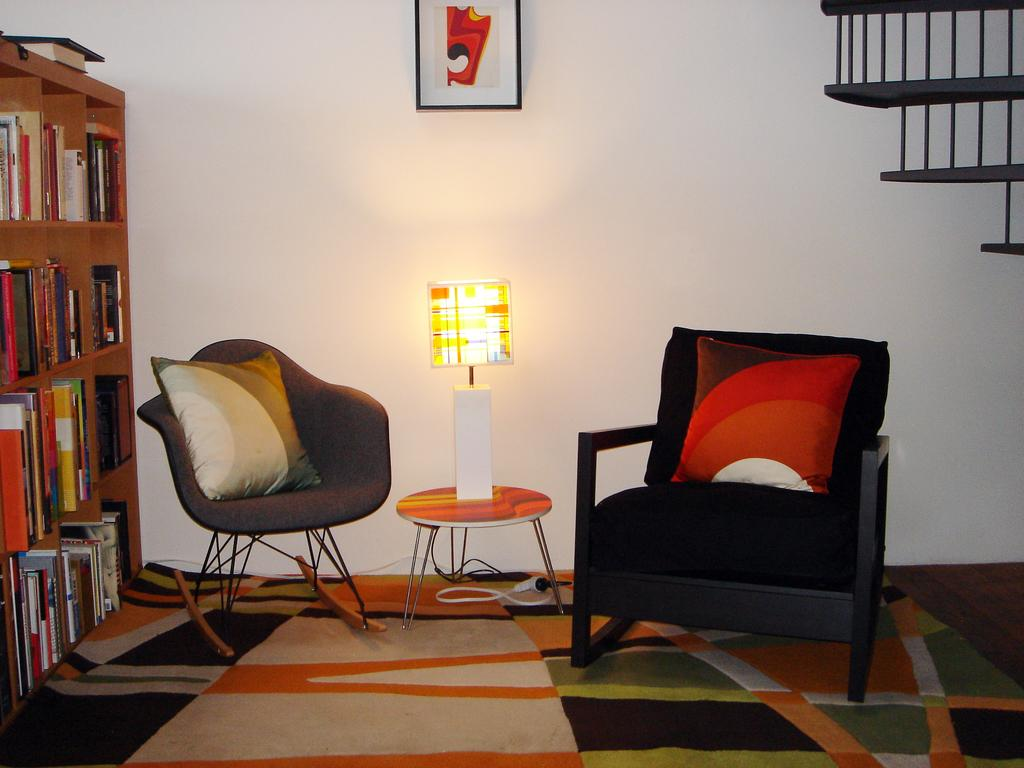Chair: (570, 326, 890, 704), (125, 335, 402, 644)
